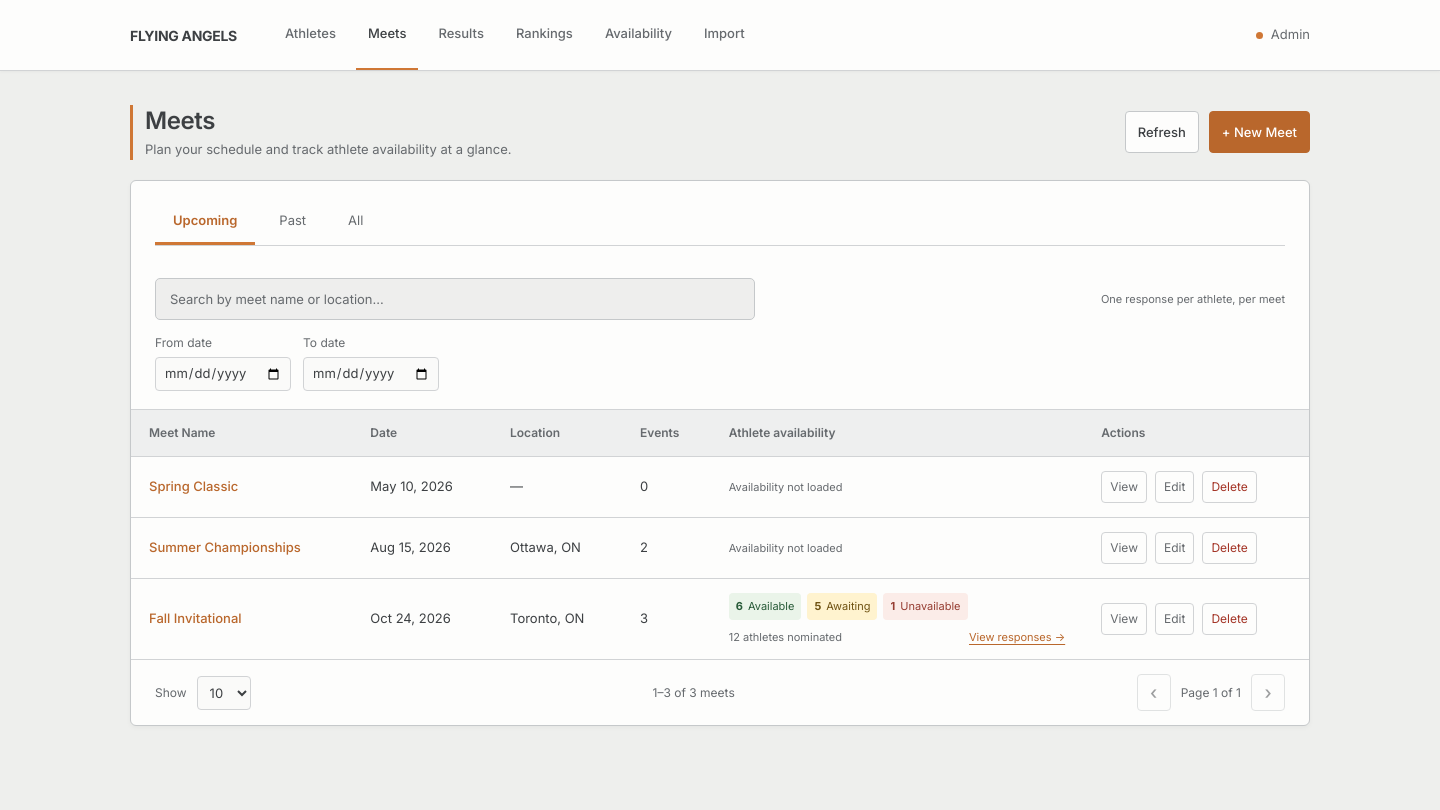
it: Meets List › combines inclusive date bounds and search, and clears all filters
Expected: the column heading "Fall Invitational" is shown, 131,579 -> 352,659
Step 1. Type "2026-08-15" into the date field labelled "From date" → (223, 374), box 155,357 -> 291,391
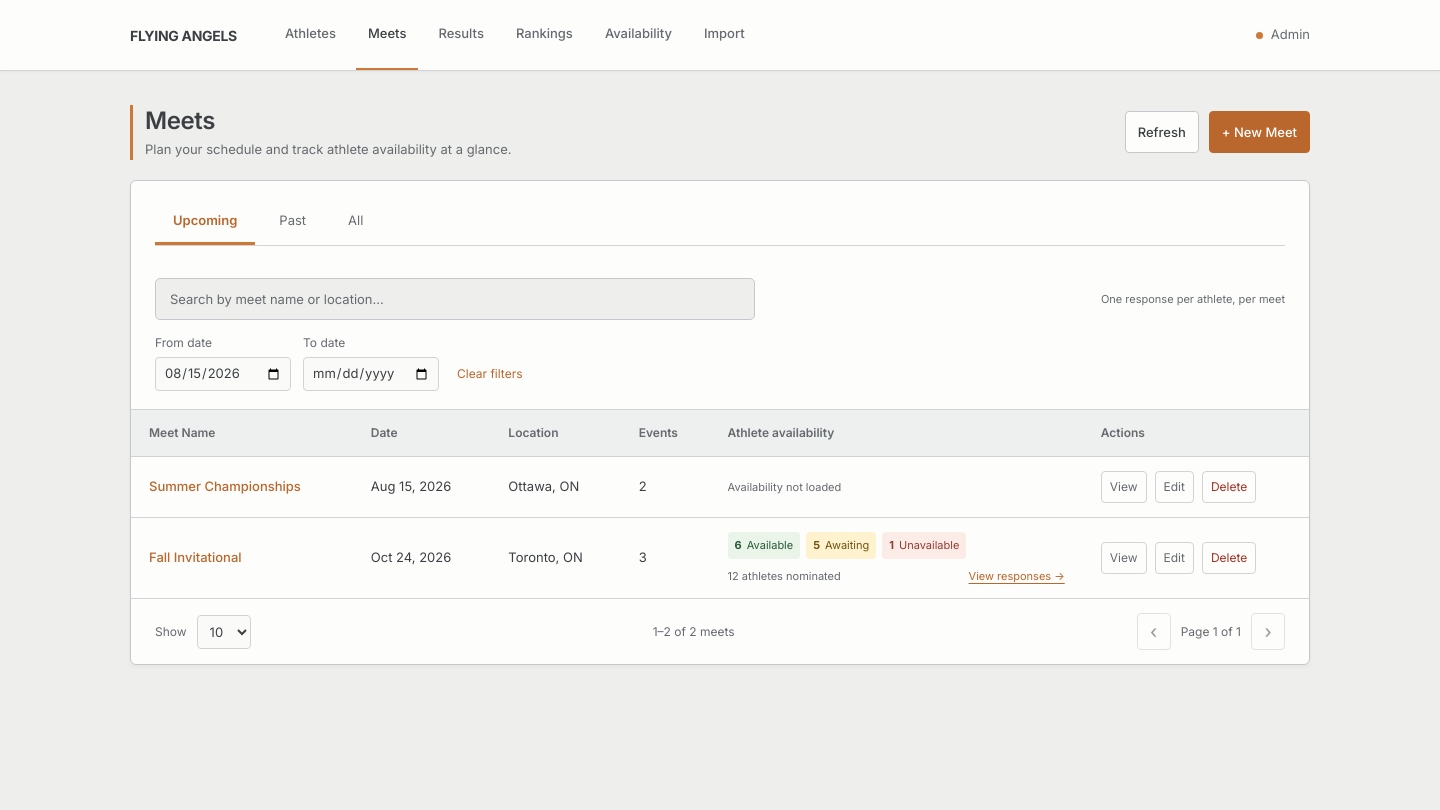
Step 2. Type "2026-10-24" into the date field labelled "To date" → (371, 374), box 303,357 -> 439,391
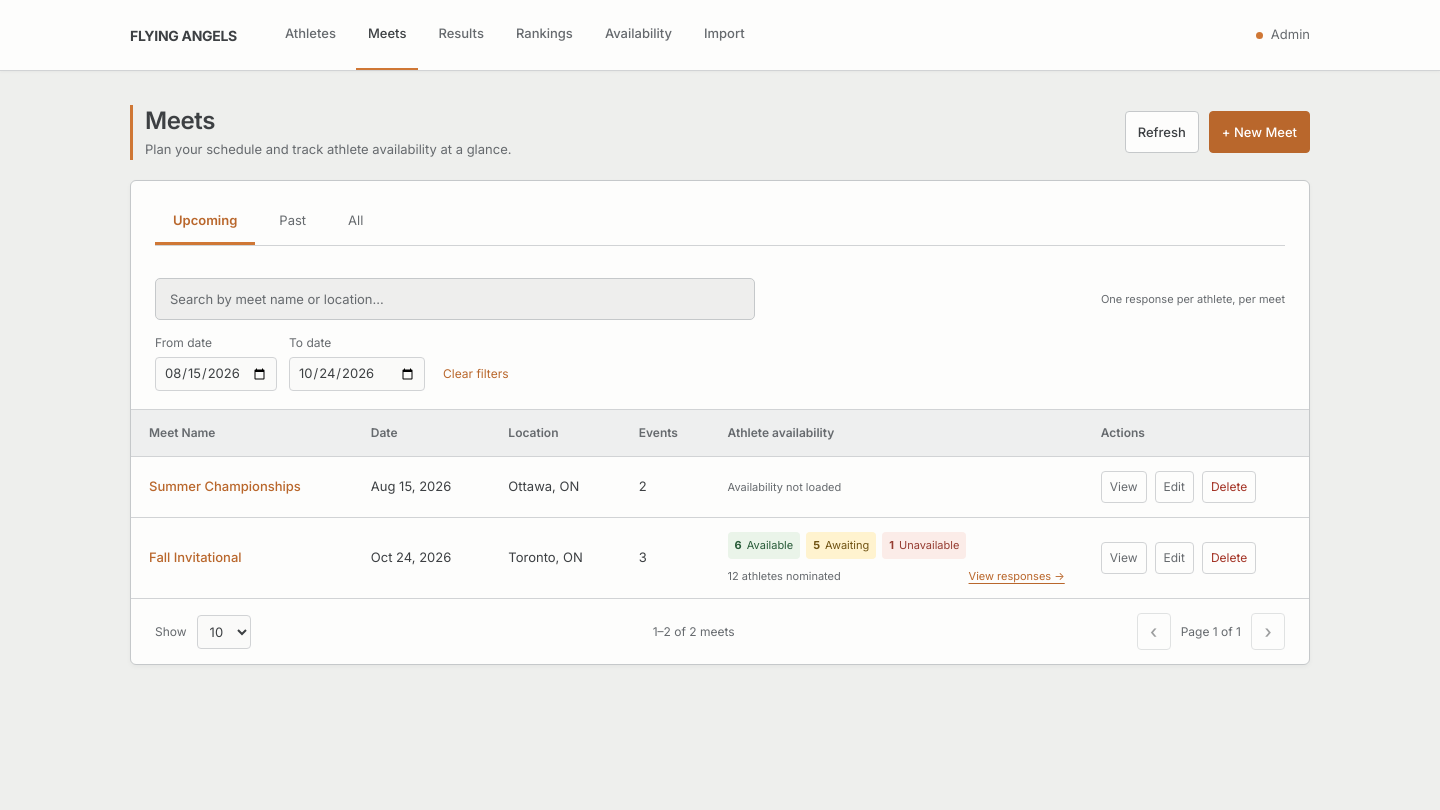
Step 3. Type "toronto" into the search field → (455, 299), box 155,278 -> 755,320
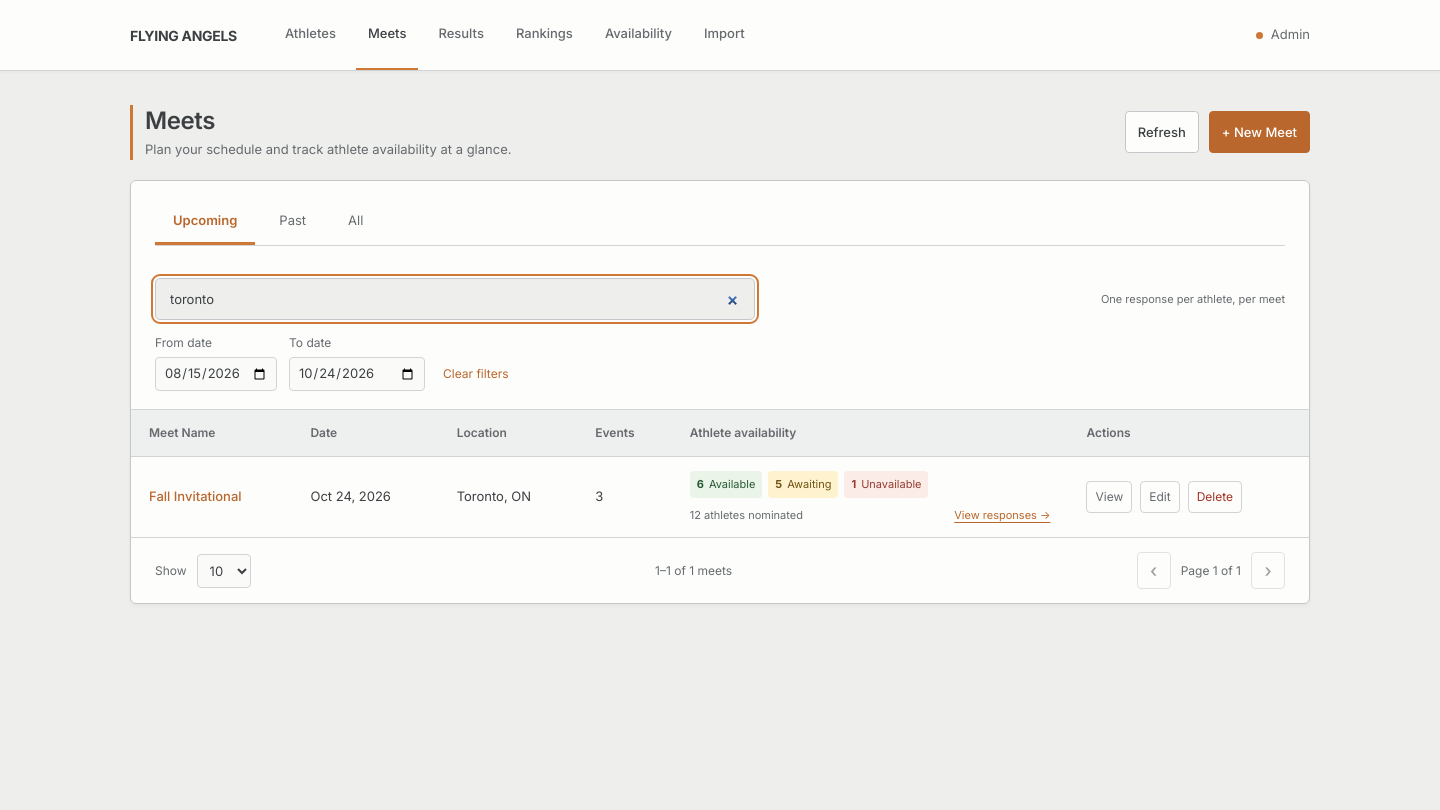
Step 4. Click the button "Clear filters" → click(476, 374), box 437,357 -> 514,391
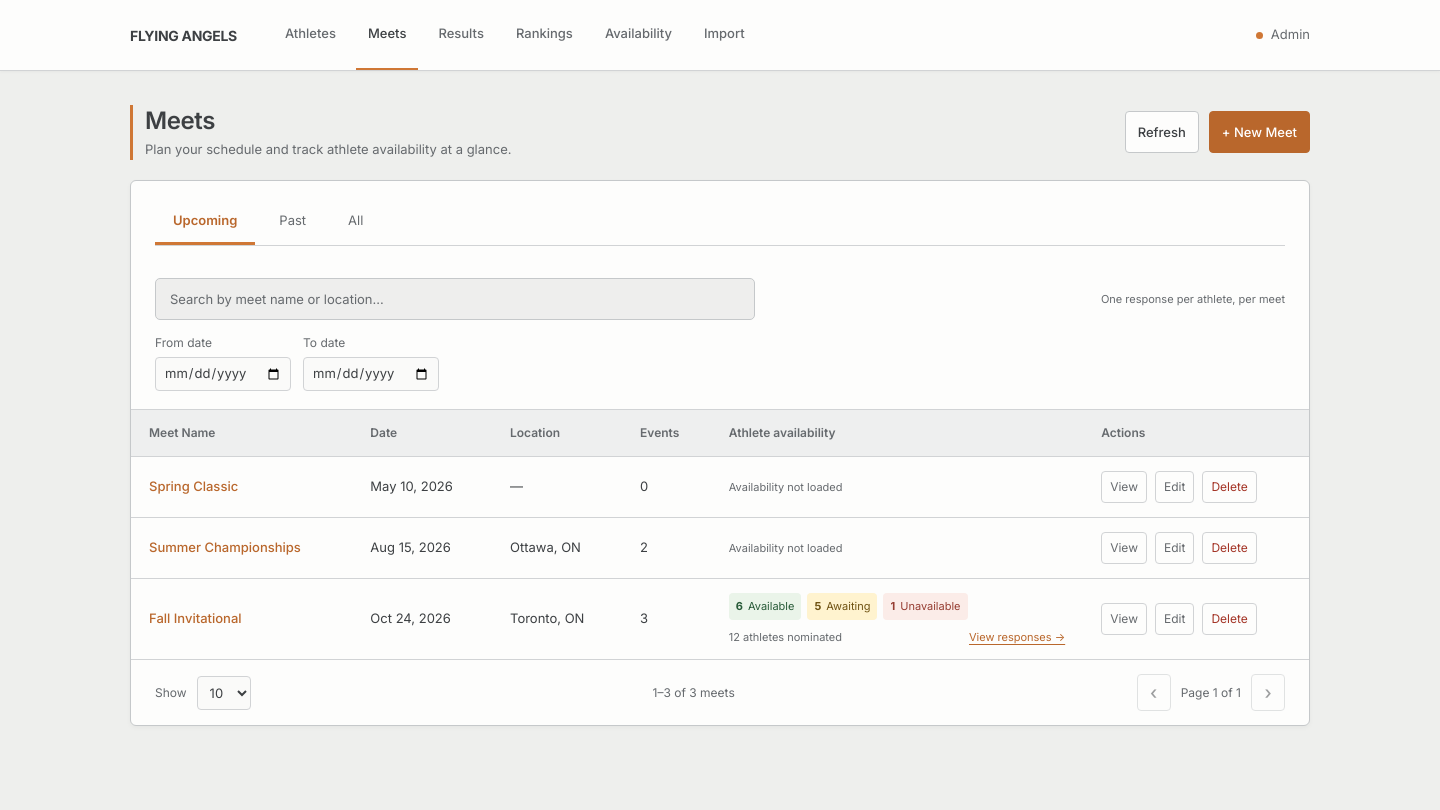
Result: the date field labelled "From date" is empty at 155,357 -> 291,391
Result: the date field labelled "To date" is empty at 303,357 -> 439,391
